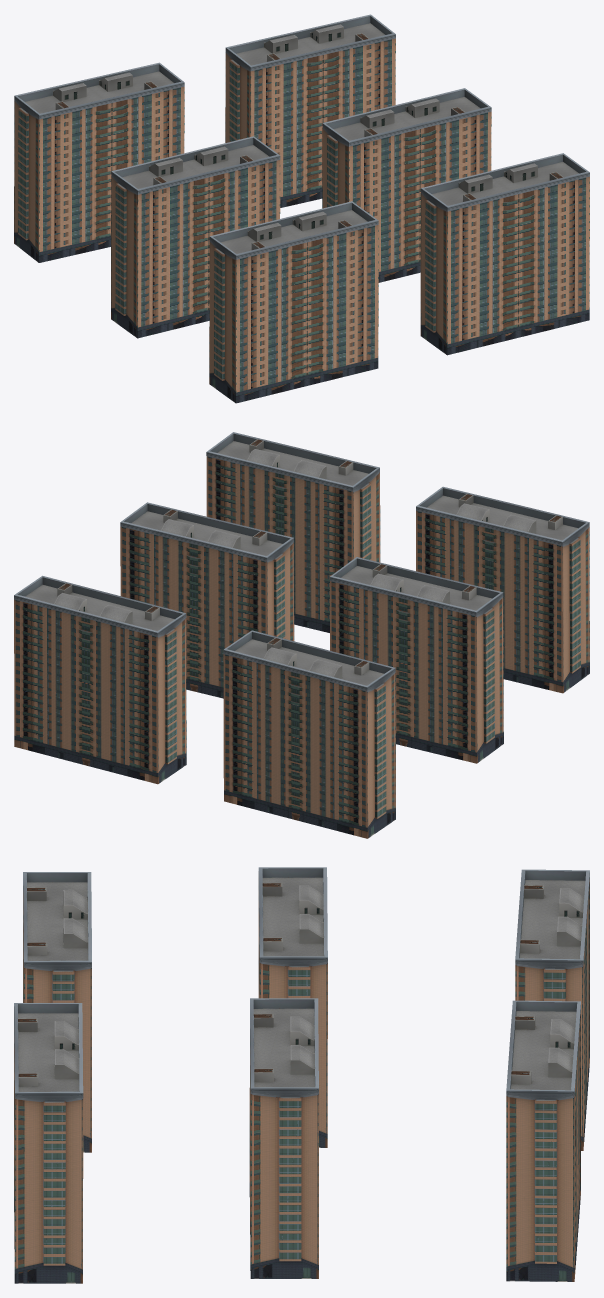
Rendered from 11_jianzhu_init.FBX.
3 views of the same model, one above another, from view 1: azimuth 30°, elevation 25°; view 2: azimuth 150°, elevation 25°; view 3: azimuth 270°, elevation 25° (orthographic). The views are drawn at different scales.
Visible parts, largest first — view 1: 11_jianzhu_init; view 2: 11_jianzhu_init; view 3: 11_jianzhu_init.
Boxes of the visible parts, x1,y1,x2,y2 form: 11_jianzhu_init: (14,14,589,403); 11_jianzhu_init: (14,432,589,838); 11_jianzhu_init: (14,867,589,1283).
Bounding box in the file's own units: 8053 × 3217 × 8568.
